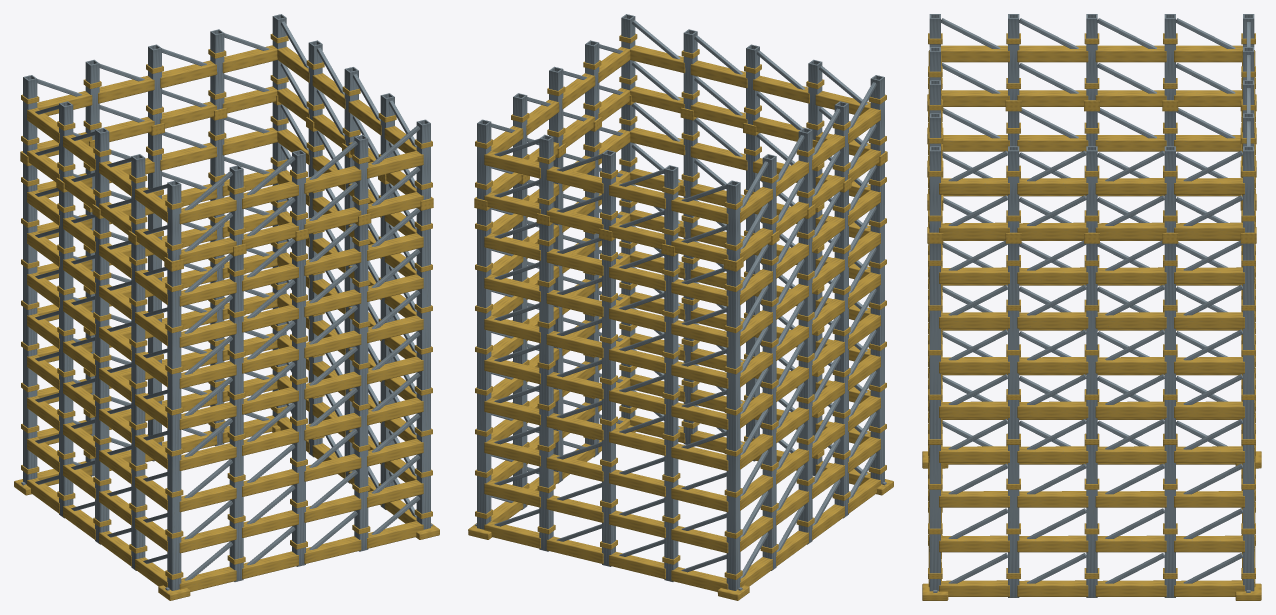
The picture shows the model from 3 angles, left to right: view 1: azimuth 30°, elevation 25°; view 2: azimuth 150°, elevation 25°; view 3: azimuth 270°, elevation 25°; orthographic projection. The views are drawn at different scales.
Visible parts, largest first — view 1: Tier 0 side 0 post 0, Tier 0 side 1 post 0, Tier 0 side 0 post 3, Tier 0 side 0 post 1, Tier 0 side 0 post 2, Tier 0 side 3 post 0, Tier 0 side 3 post 1, Tier 0 side 3 post 2, Tier 0 side 3 post 3, Tier 0 side 2 post 2, Tier 0 side 2 post 1, Tier 0 side 1 post 3 (+111 smaller); view 2: Tier 0 side 3 post 0, Tier 0 side 2 post 0, Tier 0 side 2 post 1, Tier 0 side 2 post 3, Tier 0 side 2 post 2, Tier 0 side 0 post 0, Tier 0 side 3 post 1, Tier 0 side 3 post 2, Tier 0 side 3 post 3, Tier 0 side 0 post 3, Tier 0 side 1 post 1, Tier 0 side 1 post 3 (+109 smaller); view 3: Tier 0 side 1 post 0, Tier 0 side 2 post 0, Tier 0 side 1 post 2, Tier 0 side 1 post 1, Tier 0 side 1 post 3, Tier 1 bay 3-1-1 service deck, Tier 1 bay 3-1-2 service deck, Tier 0 bay 1-4-1 service deck, Tier 0 bay 1-4-2 service deck, Tier 0 bay 1-4-0 service deck, Tier 0 bay 1-4-3 service deck, Tier 0 bay 1-1-1 service deck (+53 smaller).
Part boxes in pixels (left/top/right/bottom): Tier 0 side 0 post 0: left=167, top=269, right=181, bottom=590; Tier 0 side 1 post 0: left=416, top=208, right=430, bottom=529; Tier 0 side 0 post 3: left=354, top=224, right=368, bottom=551; Tier 0 side 0 post 1: left=229, top=254, right=243, bottom=581; Tier 0 side 0 post 2: left=292, top=239, right=305, bottom=566; Tier 0 side 3 post 0: left=23, top=163, right=37, bottom=484; Tier 0 side 3 post 1: left=59, top=189, right=73, bottom=518; Tier 0 side 3 post 2: left=95, top=216, right=109, bottom=544; Tier 0 side 3 post 3: left=131, top=242, right=145, bottom=570; Tier 0 side 2 post 2: left=148, top=133, right=161, bottom=461; Tier 0 side 2 post 1: left=210, top=117, right=224, bottom=446; Tier 0 side 1 post 3: left=308, top=129, right=322, bottom=457; Tier 0 side 3 post 0: left=726, top=269, right=740, bottom=590; Tier 0 side 2 post 0: left=477, top=208, right=491, bottom=529; Tier 0 side 2 post 1: left=539, top=223, right=553, bottom=551; Tier 0 side 2 post 3: left=664, top=253, right=678, bottom=581; Tier 0 side 2 post 2: left=602, top=238, right=615, bottom=566; Tier 0 side 0 post 0: left=870, top=163, right=884, bottom=484; Tier 0 side 3 post 1: left=762, top=242, right=776, bottom=570; Tier 0 side 3 post 2: left=798, top=216, right=812, bottom=544; Tier 0 side 3 post 3: left=834, top=189, right=848, bottom=518; Tier 0 side 0 post 3: left=683, top=118, right=697, bottom=444; Tier 0 side 1 post 1: left=585, top=129, right=599, bottom=457; Tier 0 side 1 post 3: left=513, top=181, right=527, bottom=509; Tier 0 side 1 post 0: left=929, top=243, right=940, bottom=591; Tier 0 side 2 post 0: left=1243, top=243, right=1254, bottom=591; Tier 0 side 1 post 2: left=1086, top=243, right=1097, bottom=597; Tier 0 side 1 post 1: left=1008, top=243, right=1019, bottom=597; Tier 0 side 1 post 3: left=1164, top=243, right=1175, bottom=597; Tier 1 bay 3-1-1 service deck: left=1095, top=45, right=1166, bottom=62; Tier 1 bay 3-1-2 service deck: left=1017, top=45, right=1088, bottom=62; Tier 0 bay 1-4-1 service deck: left=1017, top=401, right=1088, bottom=418; Tier 0 bay 1-4-2 service deck: left=1095, top=401, right=1166, bottom=418; Tier 0 bay 1-4-0 service deck: left=939, top=401, right=1009, bottom=418; Tier 0 bay 1-4-3 service deck: left=1174, top=401, right=1244, bottom=418; Tier 0 bay 1-1-1 service deck: left=1017, top=535, right=1088, bottom=552.
Size of the model in its own units: 1.95 by 2.83 by 1.95.
Materials: 2 (2 with a texture image).
